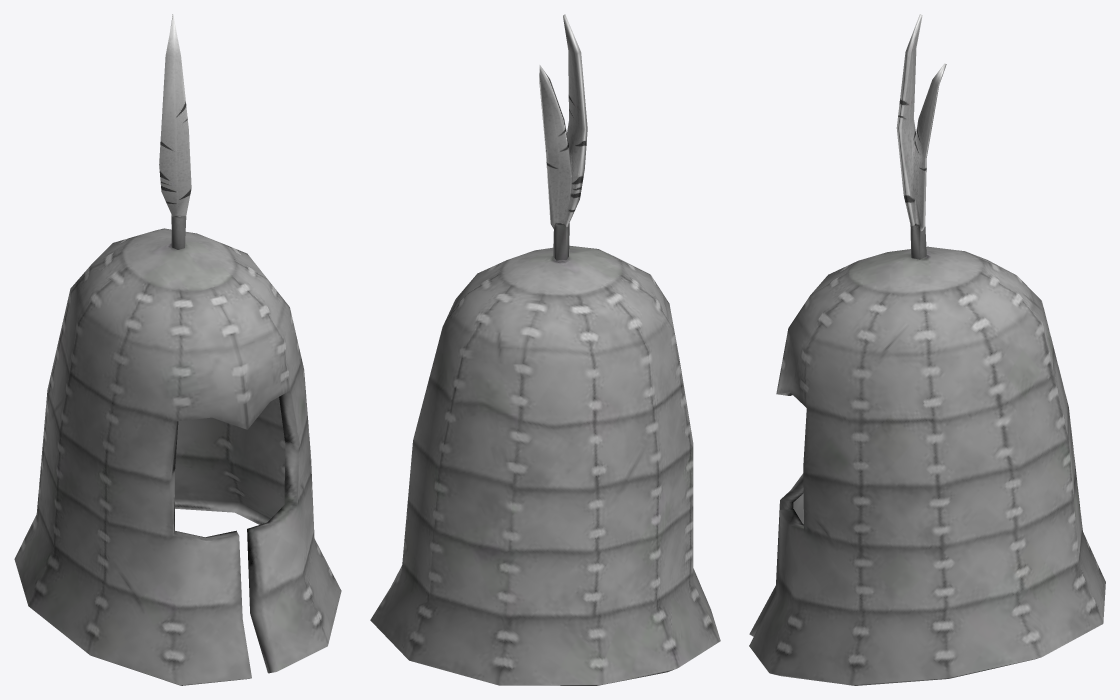
File: helmet-championinfantry.glb
3 views of the same model, side by side, from view 1: azimuth 30°, elevation 25°; view 2: azimuth 150°, elevation 25°; view 3: azimuth 270°, elevation 25° (orthographic). The views are drawn at different scales.
Bounding box in the file's own units: 0.3179 × 0.6668 × 0.3434.
1 material, 1 textured.
